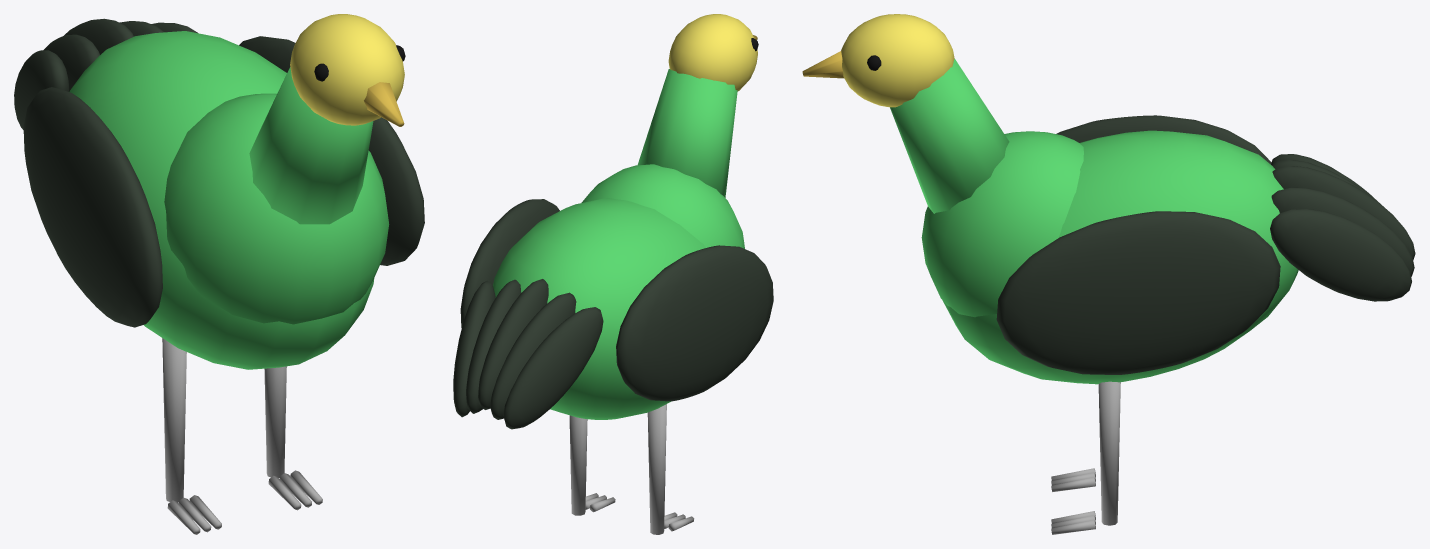
The model's file is budgerigar.glb.
3 renders of one model, left to right at view 1: azimuth 30°, elevation 25°; view 2: azimuth 150°, elevation 25°; view 3: azimuth 270°, elevation 25°, orthographic. The views are drawn at different scales.
Visible parts, largest first — view 1: budgerigar; view 2: budgerigar; view 3: budgerigar.
Part boxes in pixels (left/top/right/bottom): budgerigar: left=14, top=14, right=424, bottom=534; budgerigar: left=453, top=14, right=773, bottom=534; budgerigar: left=802, top=14, right=1415, bottom=534.
Size of the model in its own units: 0.2222 by 0.412 by 0.4664.
